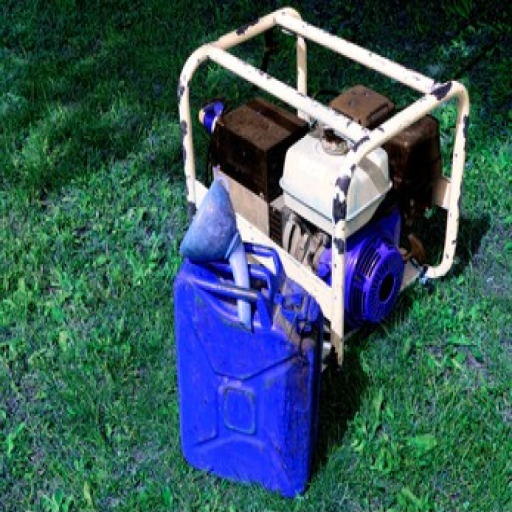portable_generator: (176, 5, 471, 372)
